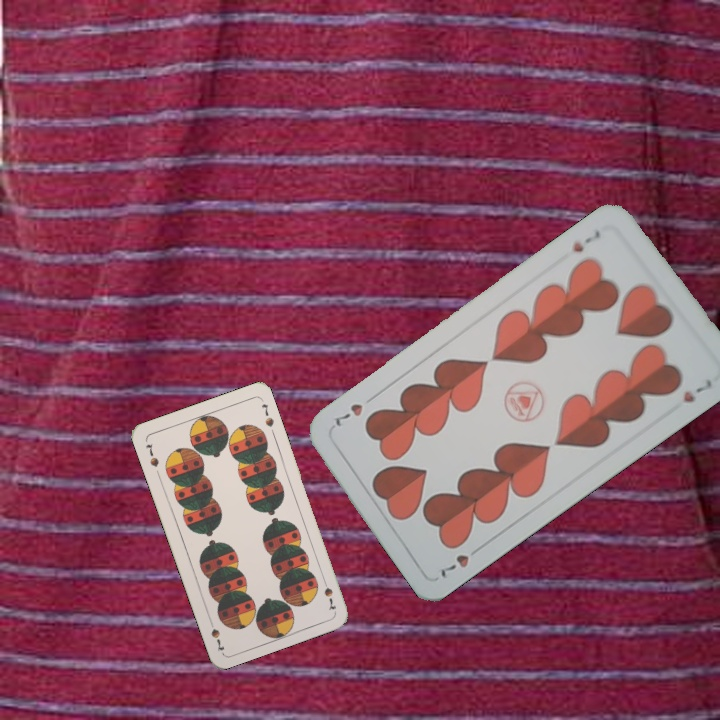H7: (434, 541, 486, 582), (568, 226, 603, 256)
S7: (319, 574, 339, 613), (142, 439, 161, 470)
